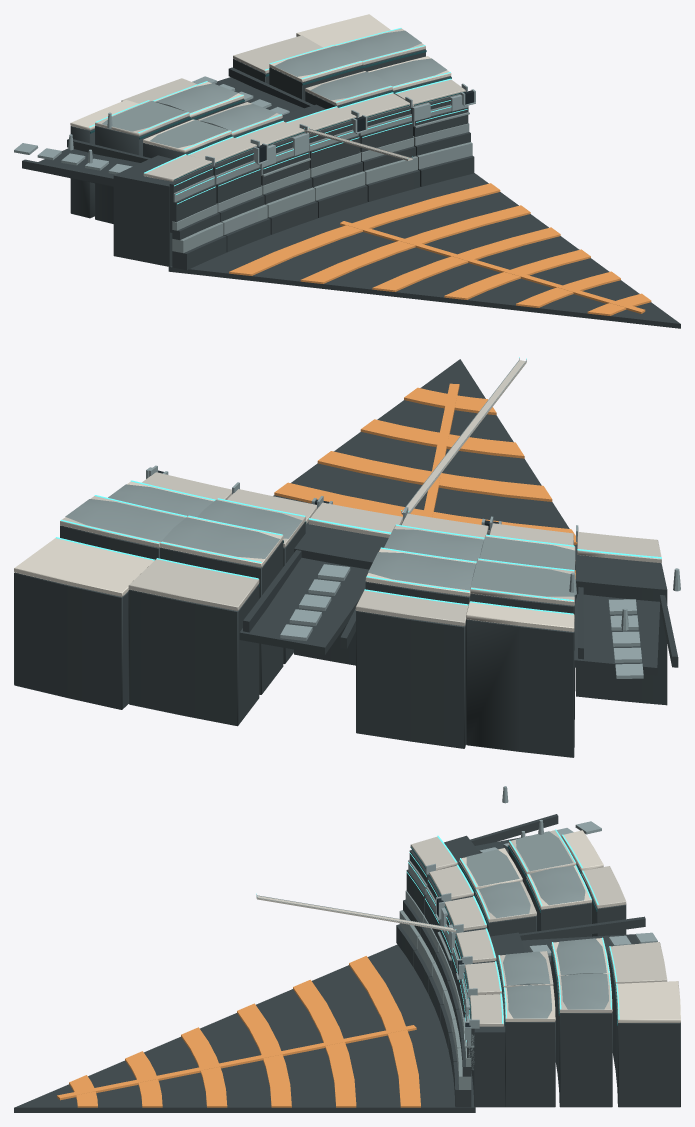
File: Weather_Lung_Sector_03.glb
3 views of the same model, one above another, from view 1: azimuth 30°, elevation 25°; view 2: azimuth 150°, elevation 25°; view 3: azimuth 270°, elevation 25° (orthographic). The views are drawn at different scales.
Parts seen in each view (by area): view 1: Weather_Lung_Sector_03; view 2: Weather_Lung_Sector_03; view 3: Weather_Lung_Sector_03.
Boxes of the visible parts, x1=… form: Weather_Lung_Sector_03: x1=14, y1=14, x2=680, y2=328; Weather_Lung_Sector_03: x1=14, y1=357, x2=680, y2=757; Weather_Lung_Sector_03: x1=14, y1=786, x2=680, y2=1112.
Size of the model in its own units: 6279 by 1850 by 8238.
